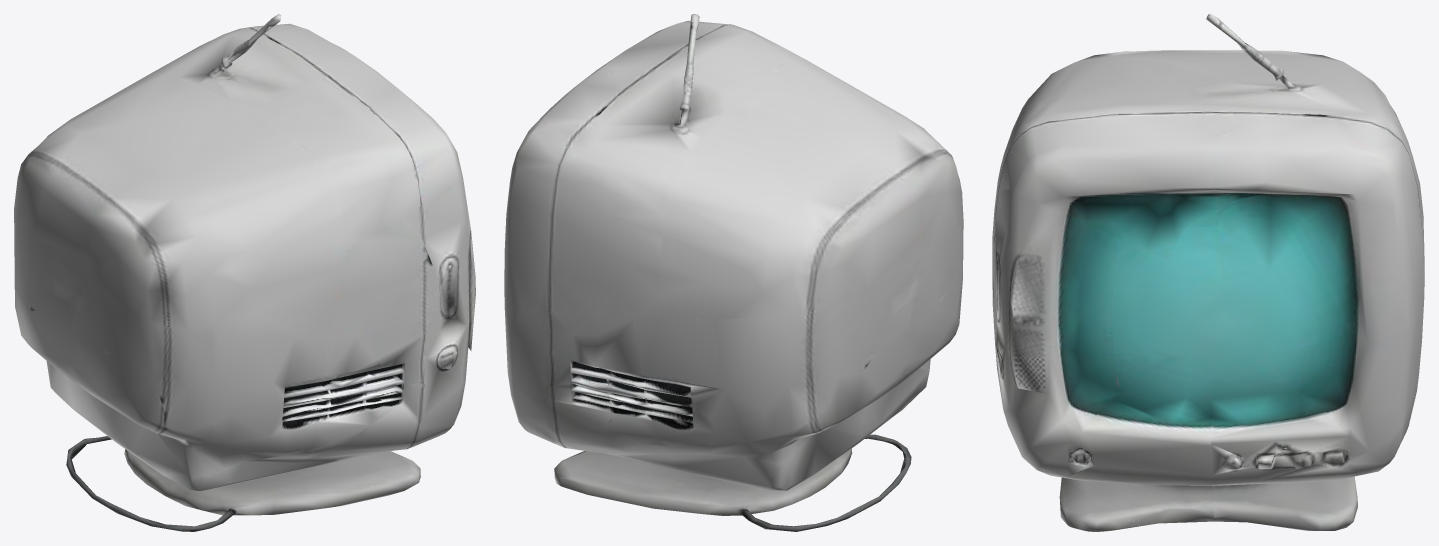
File: m-tele.glb
The picture shows the model from 3 angles, left to right: view 1: azimuth 30°, elevation 25°; view 2: azimuth 150°, elevation 25°; view 3: azimuth 270°, elevation 25°; orthographic projection. The views are drawn at different scales.
Parts seen in each view (by area): view 1: tripo_node_e4b49976-7f3e-4cda-b906-9f296ee347da; view 2: tripo_node_e4b49976-7f3e-4cda-b906-9f296ee347da; view 3: tripo_node_e4b49976-7f3e-4cda-b906-9f296ee347da.
Part boxes in pixels (x1,y1,x2,y2): tripo_node_e4b49976-7f3e-4cda-b906-9f296ee347da: [14, 14, 475, 531]; tripo_node_e4b49976-7f3e-4cda-b906-9f296ee347da: [504, 14, 963, 531]; tripo_node_e4b49976-7f3e-4cda-b906-9f296ee347da: [992, 14, 1424, 531].
Bounding box in the file's own units: 0.7885 × 0.9988 × 0.824.
Materials: 1 (1 with a texture image).
